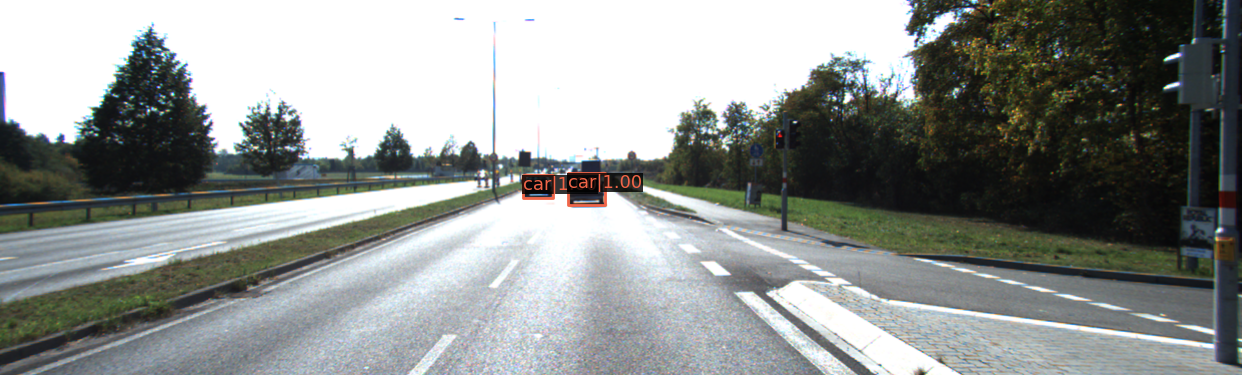car: (568, 178, 604, 206), (523, 179, 553, 202)
